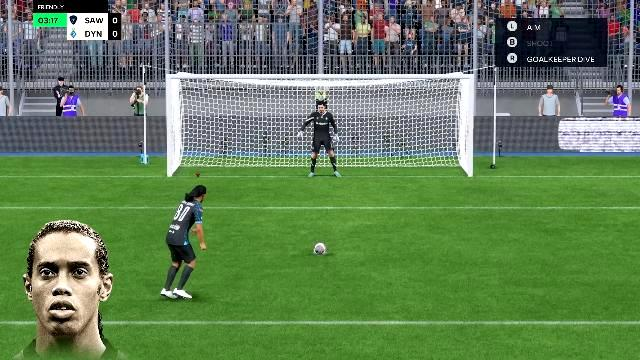bottom-left: (183, 139, 269, 178)
bottom-right: (357, 139, 457, 178)
center-down: (272, 139, 356, 178)
center-up: (272, 88, 356, 138)
football: (312, 244, 330, 252)
goalkeeper: (294, 103, 348, 180)
player: (164, 182, 212, 304)
top-left: (182, 88, 270, 138)
top-right: (357, 88, 459, 138)
